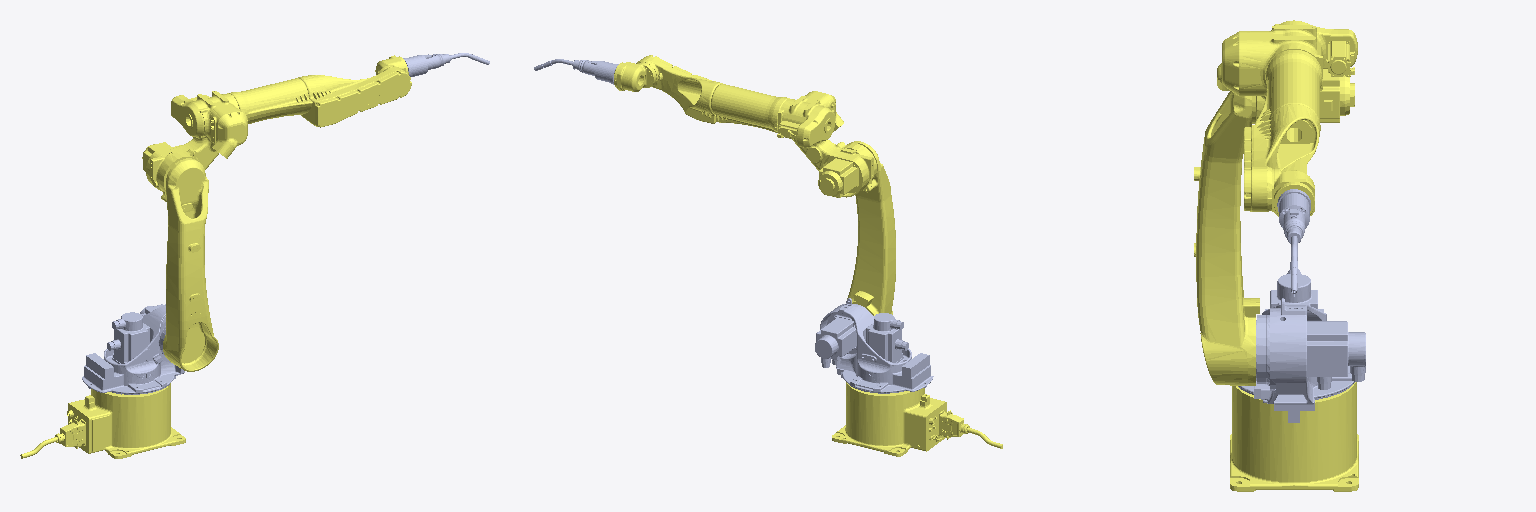
URDF robot description (sa2000h_urdf_0416):
<?xml version="1.0" encoding="utf-8"?>
<!-- This URDF was automatically created by SolidWorks to URDF Exporter! Originally created by [author] ([email redacted]) 
     Commit Version: 1.6.0-4-g7f85cfe  Build Version: 1.6.7995.38578
     For more information, please see http://wiki.ros.org/sw_urdf_exporter -->
<robot
  name="sa2000h_urdf_0416">
  <link
    name="base_link">
    <!-- <inertial>
      <origin
        xyz="-0.026247 -0.00053463 0.10551"
        rpy="0 0 0" />
      <mass
        value="0.21182" />
      <inertia
        ixx="0.0026006"
        ixy="-1.5443E-05"
        ixz="-0.00014709"
        iyy="0.0035319"
        iyz="-2.1489E-06"
        izz="0.0038574" />
    </inertial> -->
    <visual>
      <origin
        xyz="0 0 0"
        rpy="0 0 0" />
      <geometry>
        <mesh
          filename="package://sa2000h_urdf_0416/meshes/base_link.STL" />
      </geometry>
      <material
        name="">
        <color
          rgba="1 1 0.50196 1" />
      </material>
    </visual>
    <collision>
      <origin
        xyz="0 0 0"
        rpy="0 0 0" />
      <geometry>
        <mesh
          filename="package://sa2000h_urdf_0416/meshes/base_link.STL" />
      </geometry>
    </collision>
  </link>
  <link
    name="link1">
    <inertial>
      <origin
        xyz="0.073279 0.0022201 -0.047493"
        rpy="0 0 0" />
      <mass
        value="0.1259" />
      <inertia
        ixx="0.0013004"
        ixy="-3.1118E-05"
        ixz="-0.00050189"
        iyy="0.0025316"
        iyz="-1.0879E-05"
        izz="0.0023997" />
    </inertial>
    <visual>
      <origin
        xyz="0 0 0"
        rpy="0 0 0" />
      <geometry>
        <mesh
          filename="package://sa2000h_urdf_0416/meshes/link1.STL" />
      </geometry>
      <material
        name="">
        <color
          rgba="0.79216 0.81961 0.93333 1" />
      </material>
    </visual>
    <collision>
      <origin
        xyz="0 0 0"
        rpy="0 0 0" />
      <geometry>
        <mesh
          filename="package://sa2000h_urdf_0416/meshes/link1.STL" />
      </geometry>
    </collision>
  </link>
  <joint
    name="joint1"
    type="revolute">
    <origin
      xyz="0.0055 0 0.417"
      rpy="0 0 0" />
    <parent
      link="base_link" />
    <child
      link="link1" />
    <axis
      xyz="0 0 -1" />
    <limit
      lower="-2.8798"
      upper="2.8798"
      effort="0"
      velocity="0" />
  </joint>
  <link
    name="link2">
    <inertial>
      <origin
        xyz="0.35659 0.019477 0.1707"
        rpy="0 0 0" />
      <mass
        value="0.062211" />
      <inertia
        ixx="0.00031907"
        ixy="-2.8093E-05"
        ixz="-1.0933E-05"
        iyy="0.0050925"
        iyz="-2.6636E-05"
        izz="0.0051605" />
    </inertial>
    <visual>
      <origin
        xyz="0 0 0"
        rpy="0 0 0" />
      <geometry>
        <mesh
          filename="package://sa2000h_urdf_0416/meshes/link2.STL" />
      </geometry>
      <material
        name="">
        <color
          rgba="1 1 0.50196 1" />
      </material>
    </visual>
    <collision>
      <origin
        xyz="0 0 0"
        rpy="0 0 0" />
      <geometry>
        <mesh
          filename="package://sa2000h_urdf_0416/meshes/link2.STL" />
      </geometry>
    </collision>
  </link>
  <joint
    name="joint2"
    type="revolute">
    <origin
      xyz="0.19 0 0"
      rpy="1.5708 -1.5708 0" />
    <parent
      link="link1" />
    <child
      link="link2" />
    <axis
      xyz="0 0 -1" />
    <limit
      lower="-1.3963"
      upper="2.8449"
      effort="0"
      velocity="0" />
  </joint>
  <link
    name="link3">
    <inertial>
      <origin
        xyz="0.10114 -0.11148 0.022868"
        rpy="0 0 0" />
      <mass
        value="0.11857" />
      <inertia
        ixx="0.0020813"
        ixy="0.00098222"
        ixz="-8.4727E-05"
        iyy="0.0020002"
        iyz="0.00018768"
        izz="0.00255" />
    </inertial>
    <visual>
      <origin
        xyz="0 0 0"
        rpy="0 0 0" />
      <geometry>
        <mesh
          filename="package://sa2000h_urdf_0416/meshes/link3.STL" />
      </geometry>
      <material
        name="">
        <color
          rgba="1 1 0.50196 1" />
      </material>
    </visual>
    <collision>
      <origin
        xyz="0 0 0"
        rpy="0 0 0" />
      <geometry>
        <mesh
          filename="package://sa2000h_urdf_0416/meshes/link3.STL" />
      </geometry>
    </collision>
  </link>
  <joint
    name="joint3"
    type="revolute">
    <origin
      xyz="0.765 0 0"
      rpy="0 0 0" />
    <parent
      link="link2" />
    <child
      link="link3" />
    <axis
      xyz="0 0 -1" />
    <limit
      lower="-1.3963"
      upper="1.3963"
      effort="0"
      velocity="0" />
  </joint>
  <link
    name="link4">
    <inertial>
      <origin
        xyz="-0.017718 0.037821 -0.38898"
        rpy="0 0 0" />
      <mass
        value="0.087667" />
      <inertia
        ixx="0.0040784"
        ixy="3.1743E-05"
        ixz="0.00013383"
        iyy="0.0039608"
        iyz="-0.00065713"
        izz="0.00042402" />
    </inertial>
    <visual>
      <origin
        xyz="0 0 0"
        rpy="0 0 0" />
      <geometry>
        <mesh
          filename="package://sa2000h_urdf_0416/meshes/link4.STL" />
      </geometry>
      <material
        name="">
        <color
          rgba="1 1 0.50196 1" />
      </material>
    </visual>
    <collision>
      <origin
        xyz="0 0 0"
        rpy="0 0 0" />
      <geometry>
        <mesh
          filename="package://sa2000h_urdf_0416/meshes/link4.STL" />
      </geometry>
    </collision>
  </link>
  <joint
    name="joint4"
    type="revolute">
    <origin
      xyz="0.2 -1.0365 0"
      rpy="1.5708 0 0" />
    <parent
      link="link3" />
    <child
      link="link4" />
    <axis
      xyz="0 0 -1" />
    <limit
      lower="-1.6"
      upper="1.6"
      effort="0"
      velocity="0" />
  </joint>
  <link
    name="link5">
    <inertial>
      <origin
        xyz="-0.030544 1.7764E-05 -0.0095094"
        rpy="0 0 0" />
      <mass
        value="0.0080739" />
      <inertia
        ixx="1.7885E-05"
        ixy="-4.3741E-09"
        ixz="2.5238E-06"
        iyy="1.848E-05"
        iyz="5.3798E-09"
        izz="1.7098E-05" />
    </inertial>
    <visual>
      <origin
        xyz="0 0 0"
        rpy="0 0 0" />
      <geometry>
        <mesh
          filename="package://sa2000h_urdf_0416/meshes/link5.STL" />
      </geometry>
      <material
        name="">
        <color
          rgba="1 1 0.50196 1" />
      </material>
    </visual>
    <collision>
      <origin
        xyz="0 0 0"
        rpy="0 0 0" />
      <geometry>
        <mesh
          filename="package://sa2000h_urdf_0416/meshes/link5.STL" />
      </geometry>
    </collision>
  </link>
  <joint
    name="joint5"
    type="revolute">
    <origin
      xyz="0 0 0"
      rpy="1.5708 1.5708 0" />
    <parent
      link="link4" />
    <child
      link="link5" />
    <axis
      xyz="0 0 1" />
    <limit
      lower="-2.2689"
      upper="2.2689"
      effort="0"
      velocity="0" />
  </joint>
  <link
    name="link6">
    <inertial>
      <origin
        xyz="0.0035718 2.4745E-05 0.18029"
        rpy="0 0 0" />
      <mass
        value="0.57011" />
      <inertia
        ixx="0.0004224"
        ixy="5.1093E-07"
        ixz="-1.3921E-05"
        iyy="0.0004059"
        iyz="1.3539E-08"
        izz="0.00059093" />
    </inertial>
    <visual>
      <origin
        xyz="0 0 0"
        rpy="0 0 0" />
      <geometry>
        <mesh
          filename="package://sa2000h_urdf_0416/meshes/link6.STL" />
      </geometry>
      <material
        name="">
        <color
          rgba="0.79216 0.81961 0.93333 1" />
      </material>
    </visual>
    <collision>
      <origin
        xyz="0 0 0"
        rpy="0 0 0" />
      <geometry>
        <mesh
          filename="package://sa2000h_urdf_0416/meshes/link6.STL" />
      </geometry>
    </collision>
  </link>
  <joint
    name="joint6"
    type="revolute">
    <origin
      xyz="0 0 0"
      rpy="1.5708 0 -1.5708" />
    <parent
      link="link5" />
    <child
      link="link6" />
    <axis
      xyz="0 0 -1" />
    <limit
      lower="-6.2832"
      upper="6.2832"
      effort="0"
      velocity="0" />
  </joint>

  <link name="link_flp">
    <collision>
      <geometry>
        <box size="0.0001 0.0001 0.0001"/>
      </geometry>
      <origin rpy="0 0 0" xyz="0 0 0"/>
    </collision>
  </link>

  <joint name="joint_flp" type="fixed">
    <parent link="link6"/>
    <child link="link_flp"/>
    <!-- 法兰盘 0.0995-->
    <origin rpy="0 0 3.1415926" xyz="0 0 0.10"/>
  </joint>

  <link name="link_tool">
  </link>

  <joint name="joint_tool" type="fixed">
    <parent link="link_flp"/>
    <child link="link_tool"/>
    <origin xyz="-0.0834289 -0.000416569 0.436365" rpy="0.000145299 0.55089 3.13687"/>  
  </joint>

</robot>

--- Facts derived from the render (not from the file) ---
3 views of the same robot in one strip: view 1: azimuth 30°, elevation 25°; view 2: azimuth 150°, elevation 25°; view 3: azimuth 270°, elevation 25° (orthographic).
Robot: sa2000h_urdf_0416 — 9 links, 8 joints (6 revolute, 2 fixed); root link base_link; default pose: every joint at zero.
Visible links, largest first — view 1: link2, base_link, link4, link1, link3, link6; view 2: link1, base_link, link3, link2, link4, link5, link6; view 3: link2, base_link, link1, link4, link3, link6, link5.
Link boxes in pixels (x1=…): link2: x1=163, y1=158, x2=218, y2=371; base_link: x1=20, y1=383, x2=185, y2=458; link4: x1=229, y1=66, x2=411, y2=127; link1: x1=82, y1=304, x2=184, y2=394; link3: x1=142, y1=91, x2=247, y2=199; link6: x1=403, y1=53, x2=489, y2=76; link1: x1=815, y1=298, x2=933, y2=393; base_link: x1=832, y1=382, x2=1002, y2=456; link3: x1=777, y1=91, x2=876, y2=197; link2: x1=847, y1=141, x2=895, y2=315; link4: x1=636, y1=55, x2=789, y2=132; link5: x1=614, y1=62, x2=656, y2=91; link6: x1=534, y1=59, x2=618, y2=84; link2: x1=1194, y1=91, x2=1259, y2=385; base_link: x1=1230, y1=382, x2=1358, y2=491; link1: x1=1238, y1=269, x2=1365, y2=422; link4: x1=1244, y1=50, x2=1322, y2=211; link3: x1=1217, y1=20, x2=1357, y2=123; link6: x1=1277, y1=189, x2=1310, y2=296; link5: x1=1272, y1=168, x2=1314, y2=216.
Size in the robot's own frame: 2.32 by 0.4681 by 1.49 metres.
7 mesh visuals loaded from 7 distinct referenced files (7 binary STL).
